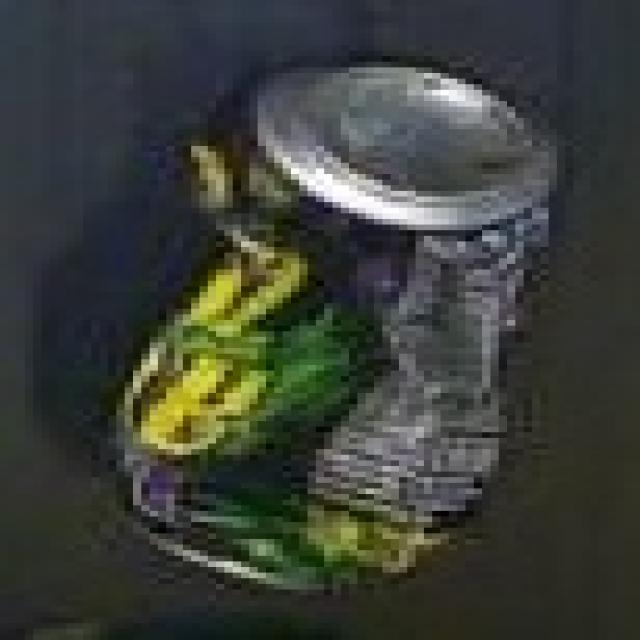litter: (35, 16, 596, 628)
